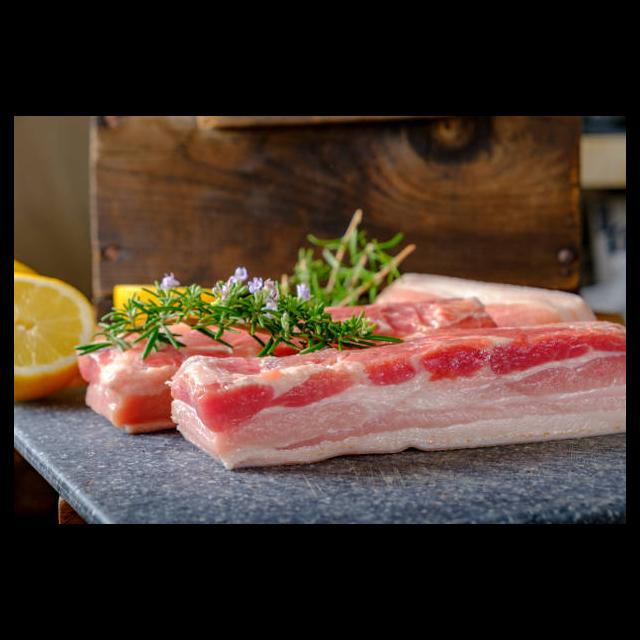pork: (176, 329, 626, 466), (79, 344, 173, 432)
